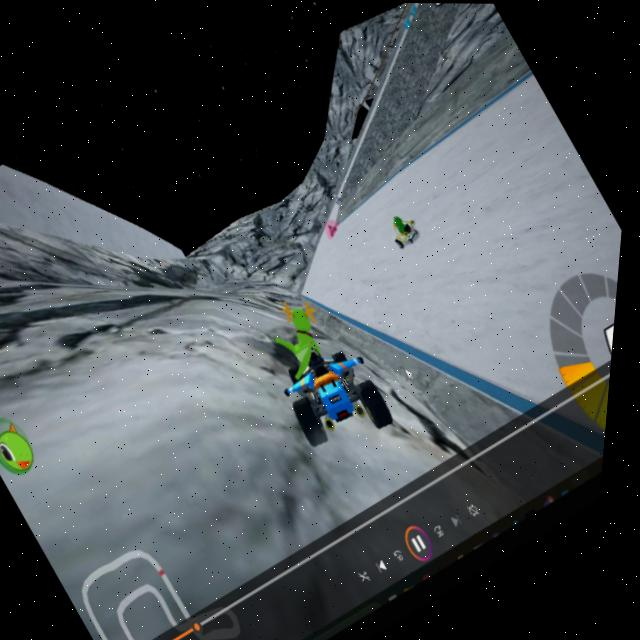enemy_kart: (382, 201, 432, 252)
player_kart: (243, 286, 412, 466)
track: (407, 163, 621, 331), (403, 88, 574, 226), (305, 216, 422, 323)
